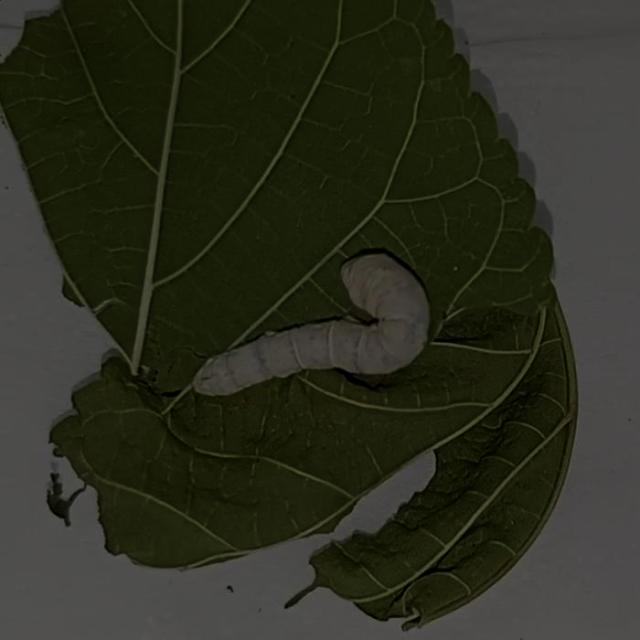Healthy: (180, 236, 444, 418)
